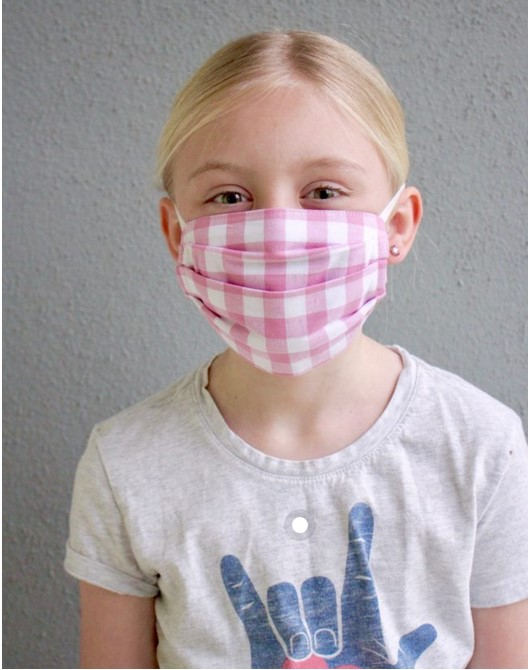face_with_mask: (153, 36, 420, 376)
